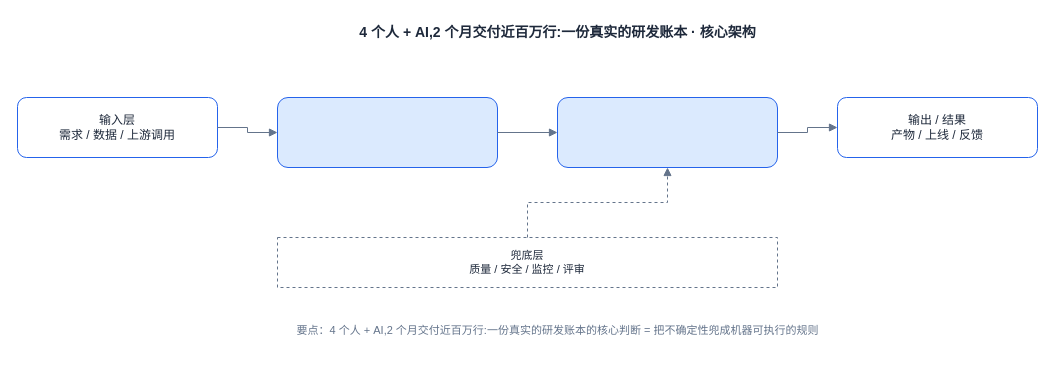
This 1055x369 diagram has some shape labels left out. The shapes that lost their labels are listed below. From the top down, each one's centre as x and y in pixels, then its label:
At point (387, 132): "核心模块一 4 个人 + AI,2 个月交付近百万行:一份真实的研发账本的左侧关键链路".
At point (667, 132): "核心模块二 4 个人 + AI,2 个月交付近百万行:一份真实的研发账本的右侧关键链路".
